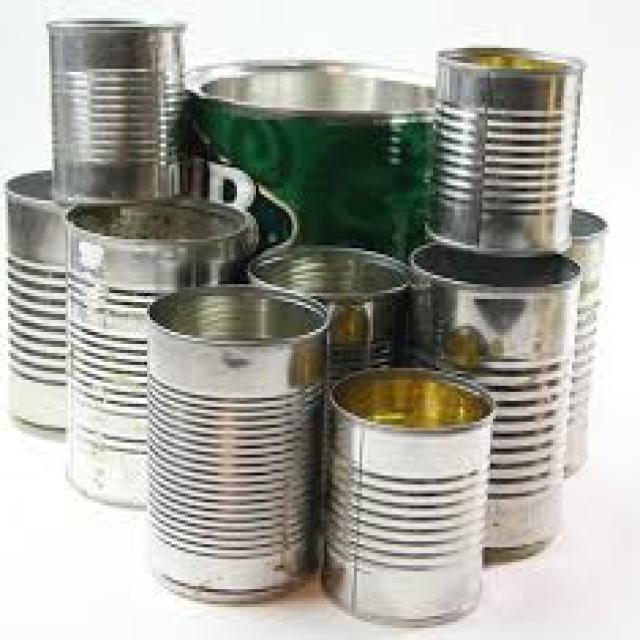metal: (60, 201, 253, 509), (142, 281, 319, 604), (409, 236, 578, 571), (177, 57, 436, 269), (322, 359, 491, 628), (425, 33, 575, 254), (44, 18, 185, 200), (245, 239, 409, 374), (3, 165, 76, 428), (564, 204, 596, 476)
